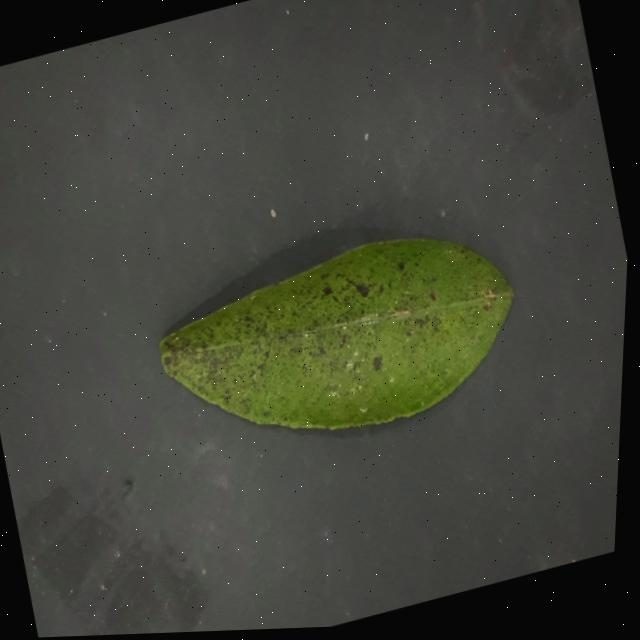greasy_spot: (158, 238, 511, 428)
